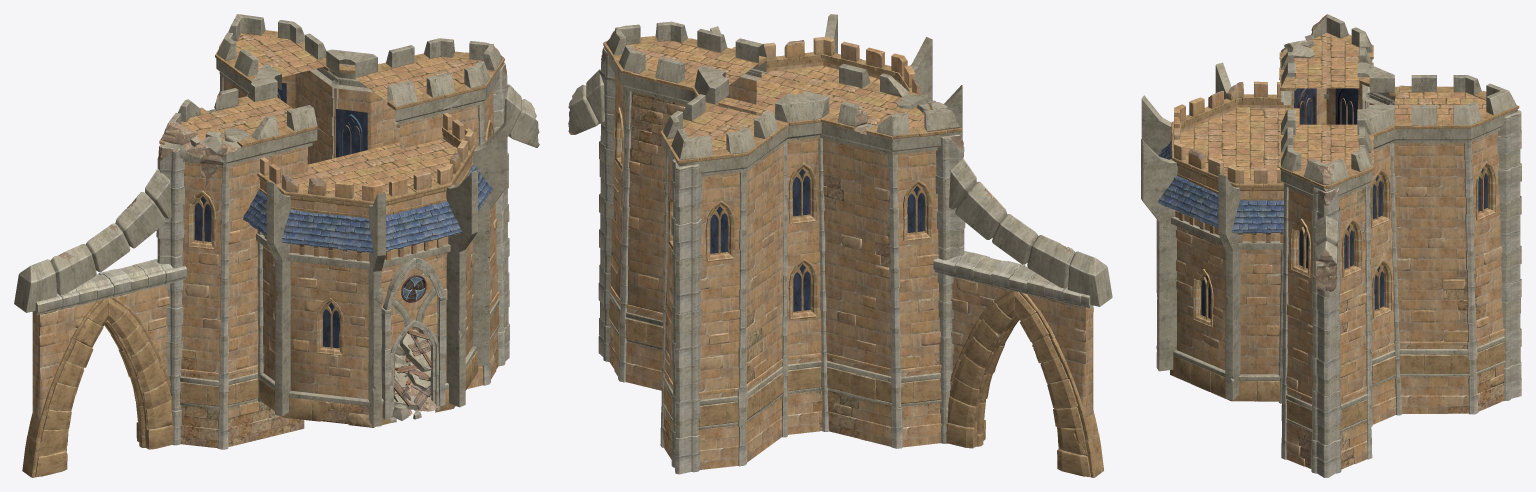
The picture shows the model from 3 angles, left to right: view 1: azimuth 30°, elevation 25°; view 2: azimuth 150°, elevation 25°; view 3: azimuth 270°, elevation 25°; orthographic projection. The views are drawn at different scales.
Parts seen in each view (by area): view 1: SM_Magic_Institute_01v02_Bottom_LOD0; view 2: SM_Magic_Institute_01v02_Bottom_LOD0; view 3: SM_Magic_Institute_01v02_Bottom_LOD0.
Part boxes in pixels (box(x1,y1,x2,y2)): SM_Magic_Institute_01v02_Bottom_LOD0: box(14, 14, 539, 477); SM_Magic_Institute_01v02_Bottom_LOD0: box(568, 14, 1112, 477); SM_Magic_Institute_01v02_Bottom_LOD0: box(1141, 14, 1521, 477).
Size of the model in its own units: 40.78 by 23.97 by 27.16.
Materials: 10 (10 with a texture image).
